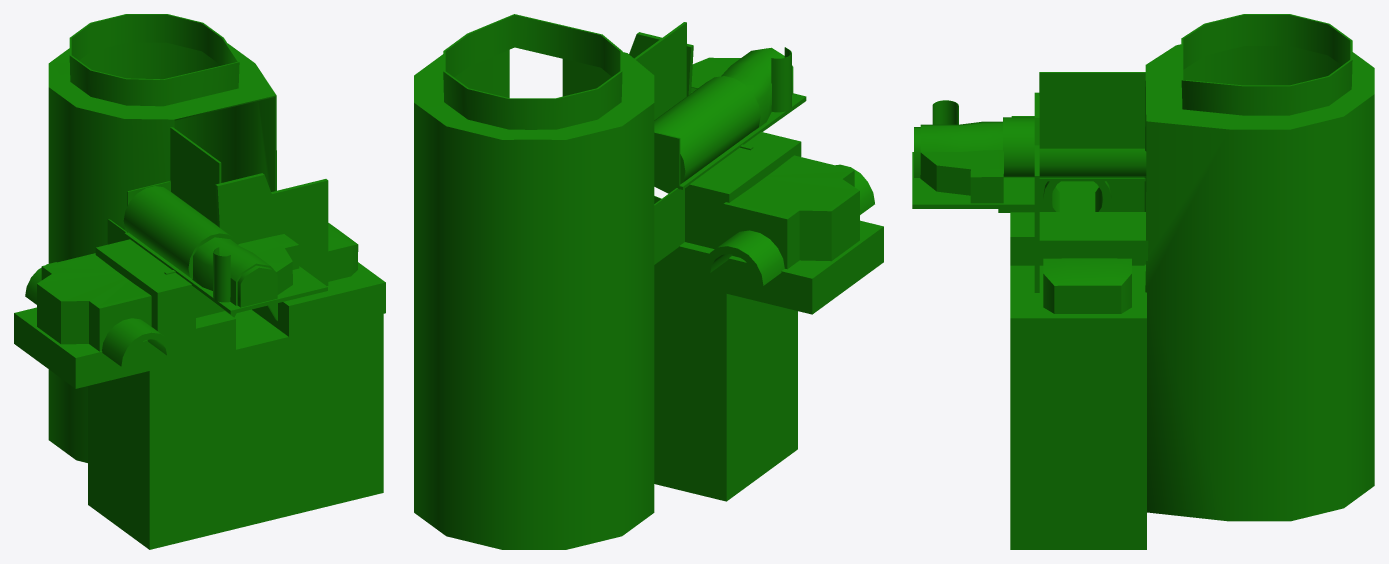
File: M_playerbaseColliders.FBX
3 renders of one model, left to right at view 1: azimuth 30°, elevation 25°; view 2: azimuth 150°, elevation 25°; view 3: azimuth 270°, elevation 25°, orthographic. The views are drawn at different scales.
Parts seen in each view (by area): view 1: Box028, Object008, Box025, Object002, Box016, Object005, Box017, Box024, Object007, Box027, Box018, Object003 (+4 smaller); view 2: Object008, Box028, Box025, Box016, Object005, Box024, Box027, Object004, Object002, Object007, Box023, Box026 (+4 smaller); view 3: Object008, Box028, Box027, Box017, Box020, Object005, Object006, Box018, Object007, Object011, Box016, Box023 (+4 smaller).
Boxes of the visible parts, left/top/right/bottom form: Box028: left=88, top=309, right=383, bottom=549; Object008: left=48, top=14, right=276, bottom=462; Box025: left=37, top=253, right=151, bottom=351; Object002: left=215, top=173, right=328, bottom=320; Box016: left=14, top=307, right=235, bottom=388; Object005: left=123, top=186, right=238, bottom=279; Box017: left=252, top=262, right=385, bottom=336; Box024: left=95, top=239, right=195, bottom=340; Object007: left=192, top=237, right=277, bottom=307; Box027: left=170, top=127, right=221, bottom=225; Box018: left=124, top=232, right=327, bottom=314; Object003: left=102, top=318, right=172, bottom=366; Object008: left=414, top=14, right=654, bottom=549; Box028: left=654, top=276, right=797, bottom=501; Box025: left=723, top=155, right=859, bottom=269; Box016: left=654, top=220, right=883, bottom=314; Object005: left=654, top=76, right=760, bottom=184; Box024: left=685, top=132, right=801, bottom=249; Box027: left=634, top=22, right=686, bottom=119; Object004: left=703, top=230, right=784, bottom=285; Object002: left=562, top=32, right=693, bottom=193; Object007: left=721, top=47, right=793, bottom=130; Box023: left=654, top=188, right=684, bottom=264; Box026: left=654, top=131, right=680, bottom=188; Object008: left=1144, top=14, right=1374, bottom=521; Box028: left=1010, top=352, right=1146, bottom=549; Box027: left=1039, top=72, right=1145, bottom=177; Box017: left=1010, top=265, right=1146, bottom=352; Box020: left=1039, top=212, right=1148, bottom=260; Object005: left=1003, top=117, right=1146, bottom=177; Object006: left=1043, top=258, right=1131, bottom=313; Box018: left=912, top=152, right=1145, bottom=208; Object007: left=914, top=121, right=1002, bottom=177; Object011: left=920, top=150, right=1003, bottom=195; Box016: left=1010, top=181, right=1145, bottom=265; Box023: left=1039, top=181, right=1144, bottom=211.
Size of the model in its own units: 2365 by 2851 by 2751.
